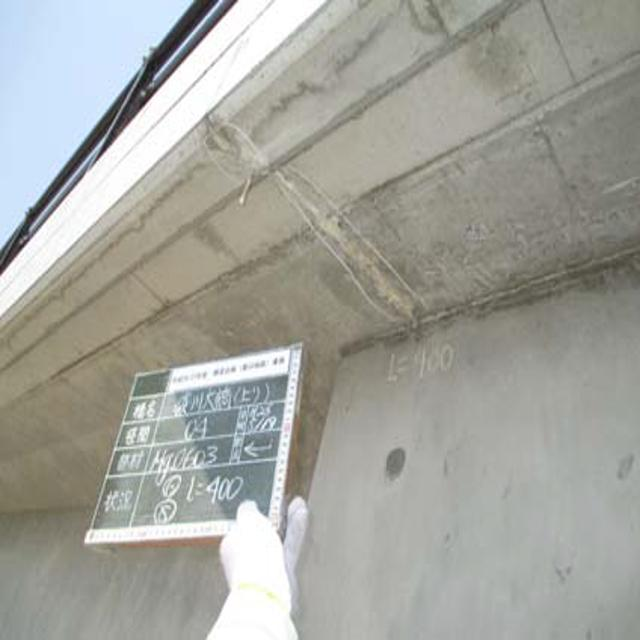freelime: (213, 113, 433, 358)
